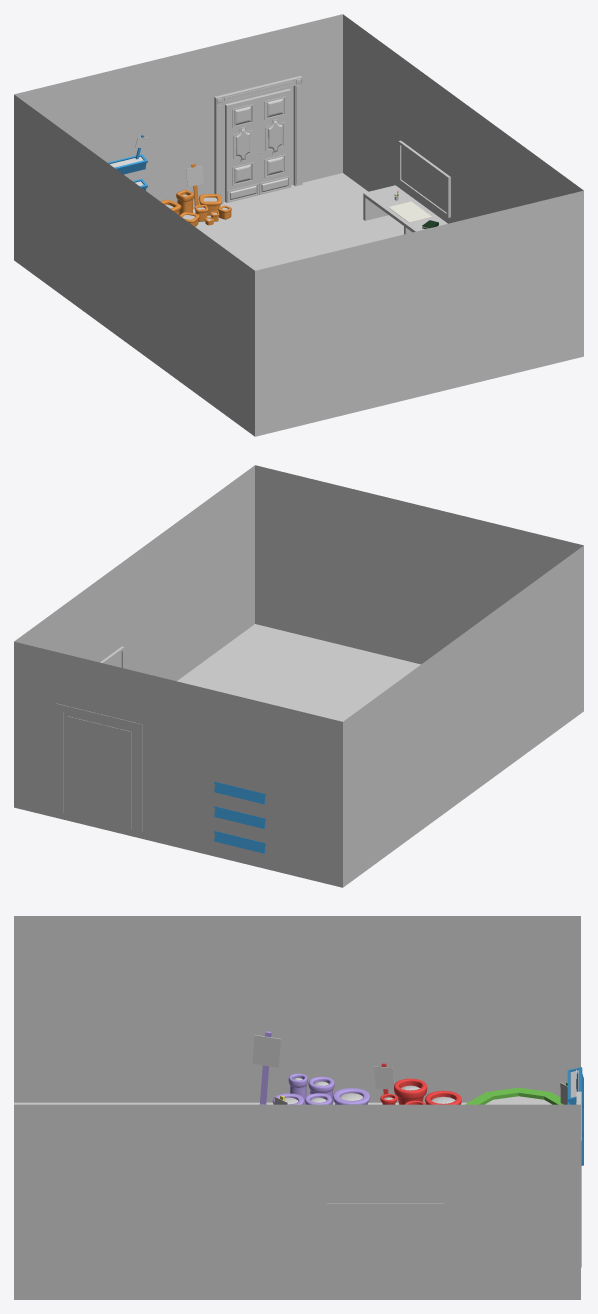
Rendered from Level_00_Workshop.fbx.
The picture shows the model from 3 angles, top to bottom: view 1: azimuth 30°, elevation 25°; view 2: azimuth 150°, elevation 25°; view 3: azimuth 270°, elevation 25°; orthographic projection. The views are drawn at different scales.
Parts seen in each view (by area): view 1: Walls, Ground, Door_Model, Table, Painting, Frame; view 2: Walls, Ground, Door_Model, Blue_Pot_03, Blue_Pot_01, Blue_Pot_02; view 3: Walls, Frame, Ground, Pond, Sign, Red_Pot_05.
Part boxes in pixels (box(x1,y1,x2,y2)): Walls: box(14, 14, 583, 436); Ground: box(14, 173, 583, 436); Door_Model: box(214, 76, 302, 204); Table: box(363, 185, 447, 234); Painting: box(401, 146, 446, 212); Frame: box(398, 140, 450, 217); Walls: box(14, 465, 583, 887); Ground: box(14, 624, 583, 887); Door_Model: box(56, 703, 142, 831); Blue_Pot_03: box(214, 781, 265, 804); Blue_Pot_01: box(214, 831, 265, 853); Blue_Pot_02: box(214, 806, 265, 828); Walls: box(14, 916, 580, 1299); Frame: box(327, 1203, 444, 1251); Ground: box(14, 1102, 580, 1299); Pond: box(465, 1087, 563, 1104); Sign: box(252, 1034, 280, 1067); Red_Pot_05: box(394, 1078, 427, 1104).
Bounding box in the file's own units: 111 × 53.27 × 141.
